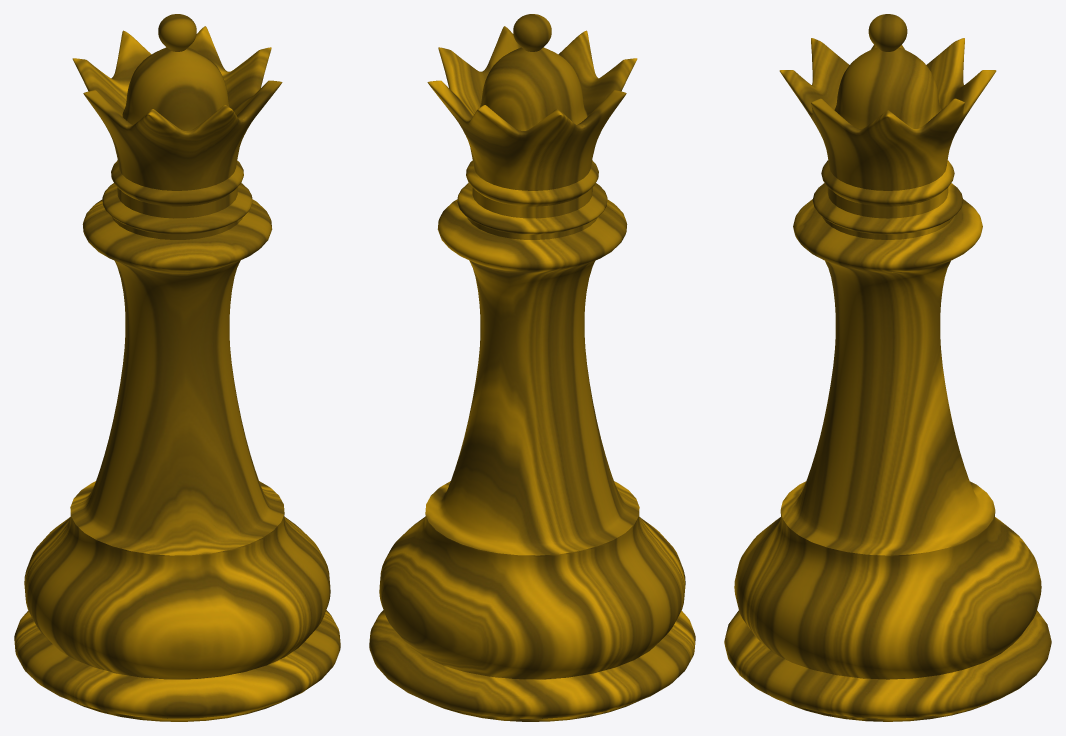
Rendered from chess.glb.
The picture shows the model from 3 angles, left to right: view 1: azimuth 30°, elevation 25°; view 2: azimuth 150°, elevation 25°; view 3: azimuth 270°, elevation 25°; orthographic projection.
Parts seen in each view (by area): view 1: geo1; view 2: geo1; view 3: geo1.
Boxes of the visible parts, x1,y1,x2,y2 form: geo1: (14,14,340,721); geo1: (369,14,695,721); geo1: (724,14,1051,721).
Bounding box in the file's own units: 4.76 × 10.37 × 4.76.
Materials: 1 (1 with a texture image).
